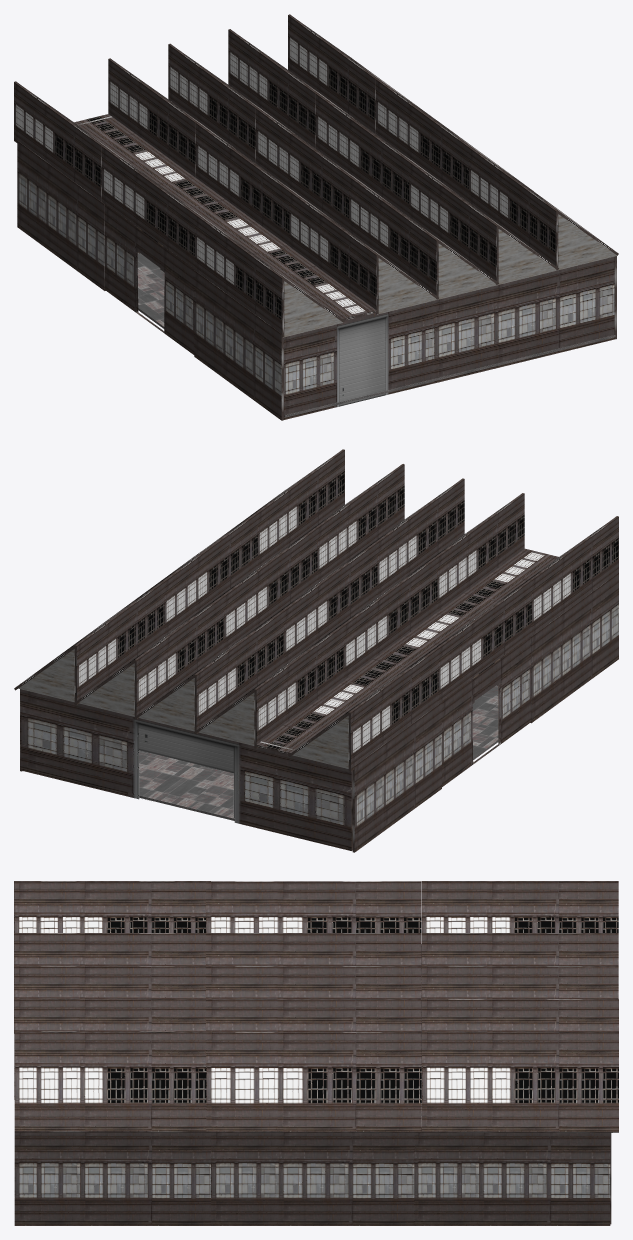
3 renders of one model, top to bottom at view 1: azimuth 30°, elevation 25°; view 2: azimuth 150°, elevation 25°; view 3: azimuth 270°, elevation 25°, orthographic. The views are drawn at different scales.
Visible parts, largest first — view 1: Factory002, Object001_20 - Default_0; view 2: Factory002, Object001_20 - Default_0; view 3: Factory002.
Boxes of the visible parts, <box> form: Factory002: <box>14,14,618,420</box>; Object001_20 - Default_0: <box>137,253,615,417</box>; Factory002: <box>14,449,618,852</box>; Object001_20 - Default_0: <box>139,685,498,820</box>; Factory002: <box>14,881,618,1225</box>.
Bounding box in the file's own units: 16.38 × 6.63 × 22.58.
7 materials, 7 textured.
